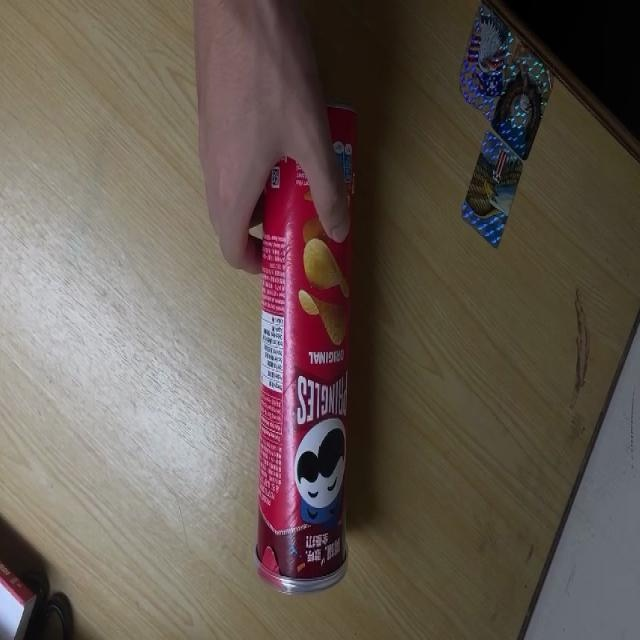Pringles: (255, 95, 358, 592)
